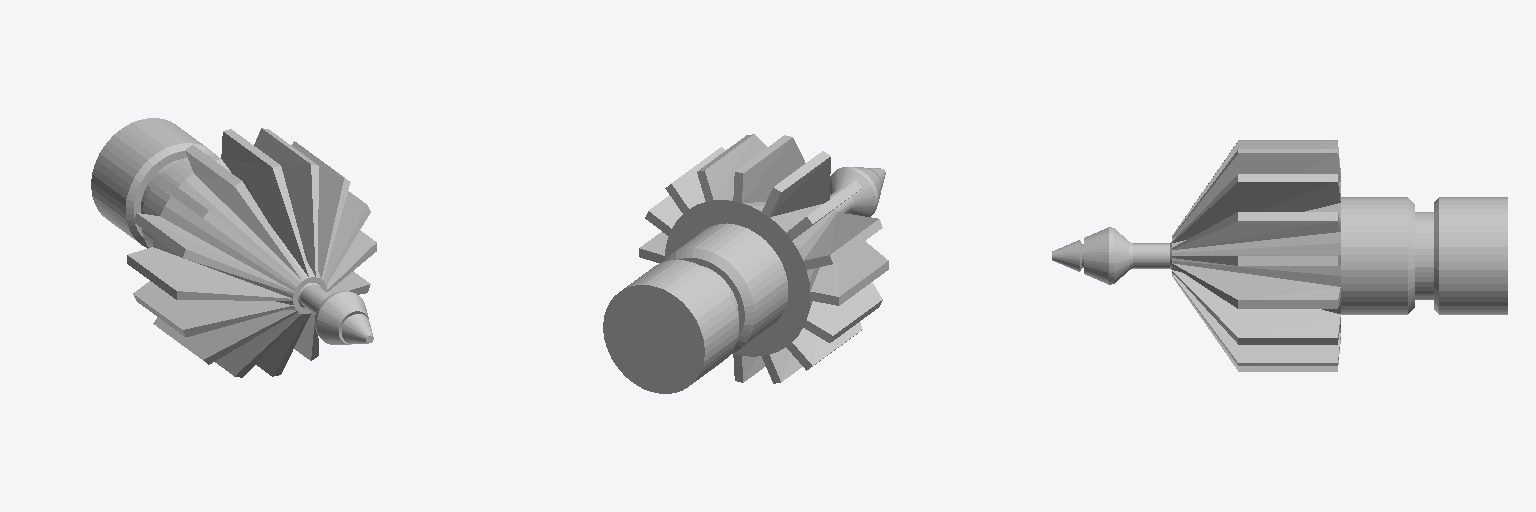
The model's file is Gear1.obj.
3 views of the same model, side by side, from view 1: azimuth 30°, elevation 25°; view 2: azimuth 150°, elevation 25°; view 3: azimuth 270°, elevation 25° (orthographic).
Parts seen in each view (by area): view 1: Cylinder.054; view 2: Cylinder.054; view 3: Cylinder.054.
Part boxes in pixels (left/top/right/bottom): Cylinder.054: left=91, top=118, right=376, bottom=377; Cylinder.054: left=603, top=134, right=888, bottom=393; Cylinder.054: left=1052, top=140, right=1507, bottom=371.
Size of the model in its own units: 9.74 by 9.74 by 19.22.